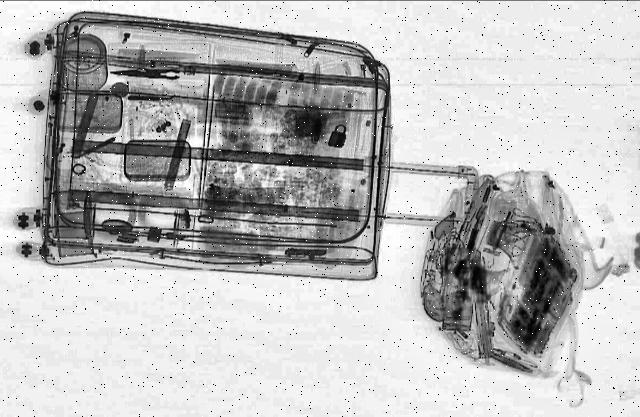Knife: (111, 64, 180, 80)
